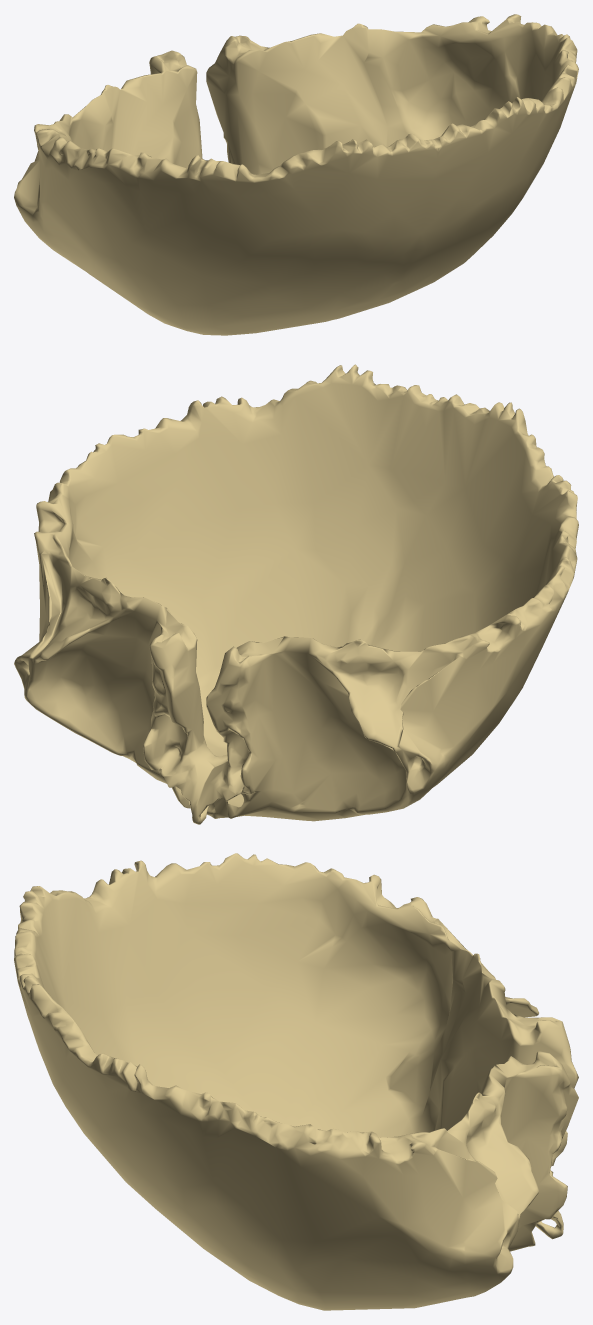
3 views of the same model, one above another, from view 1: azimuth 30°, elevation 25°; view 2: azimuth 150°, elevation 25°; view 3: azimuth 270°, elevation 25° (orthographic). The views are drawn at different scales.
Parts seen in each view (by area): view 1: 额骨; view 2: 额骨; view 3: 额骨.
Boxes of the visible parts, x1,y1,x2,y2 form: 额骨: (14,14,578,335); 额骨: (14,364,578,824); 额骨: (14,853,578,1310).
Size of the model in its own units: 0.1803 by 0.1018 by 0.157.
